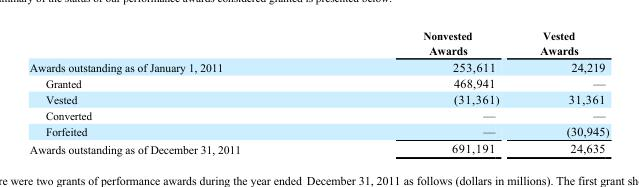table: (28, 29, 608, 155)
table column: (28, 29, 331, 155), (331, 29, 518, 155), (518, 29, 608, 155)
table column header: (28, 29, 608, 57)
table row: (28, 29, 608, 57), (28, 57, 608, 74), (28, 122, 608, 139), (28, 74, 608, 90), (28, 90, 608, 106), (28, 106, 608, 122), (28, 139, 608, 155)
